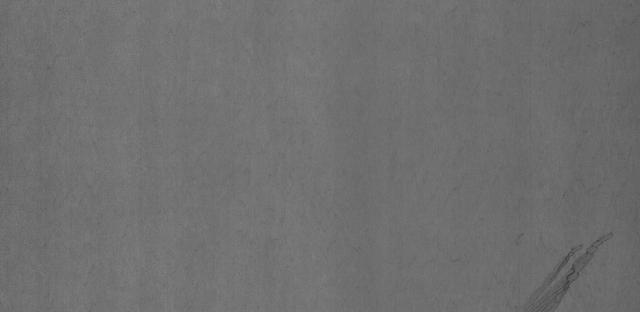water_spot: (514, 226, 625, 312)
